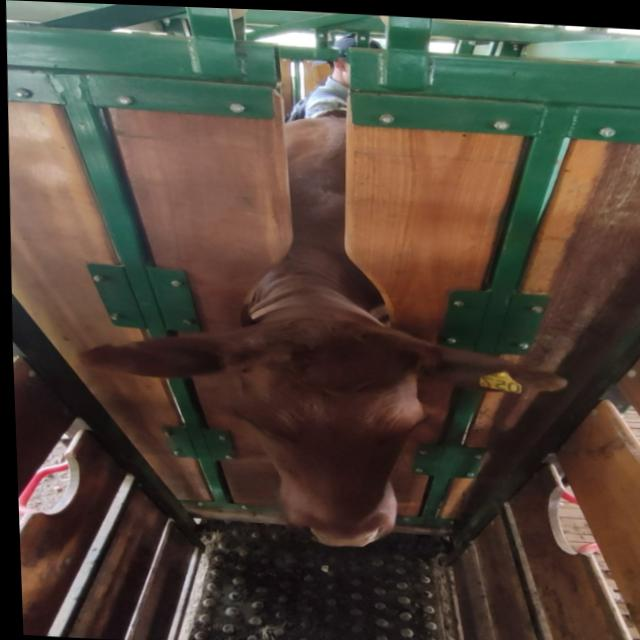cowFace: (218, 311, 422, 550)
